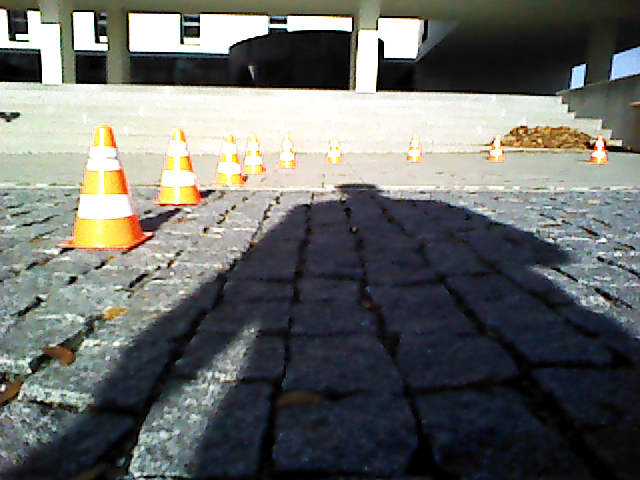orangeconesmall: (72, 126, 147, 250), (155, 129, 201, 205), (214, 135, 243, 186), (245, 137, 265, 175), (590, 134, 608, 165), (489, 137, 504, 162)
